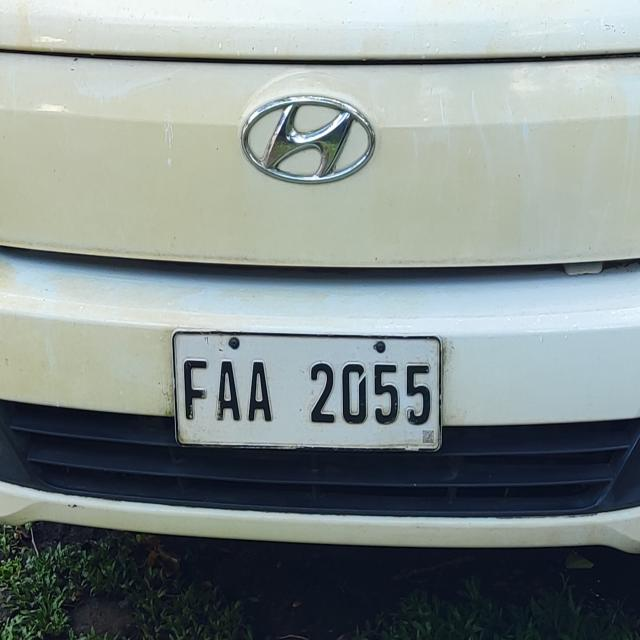plate: (169, 323, 447, 460)
